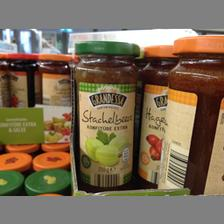Marmelade: (159, 34, 223, 194), (74, 40, 142, 188), (37, 50, 73, 106), (6, 52, 38, 108)
